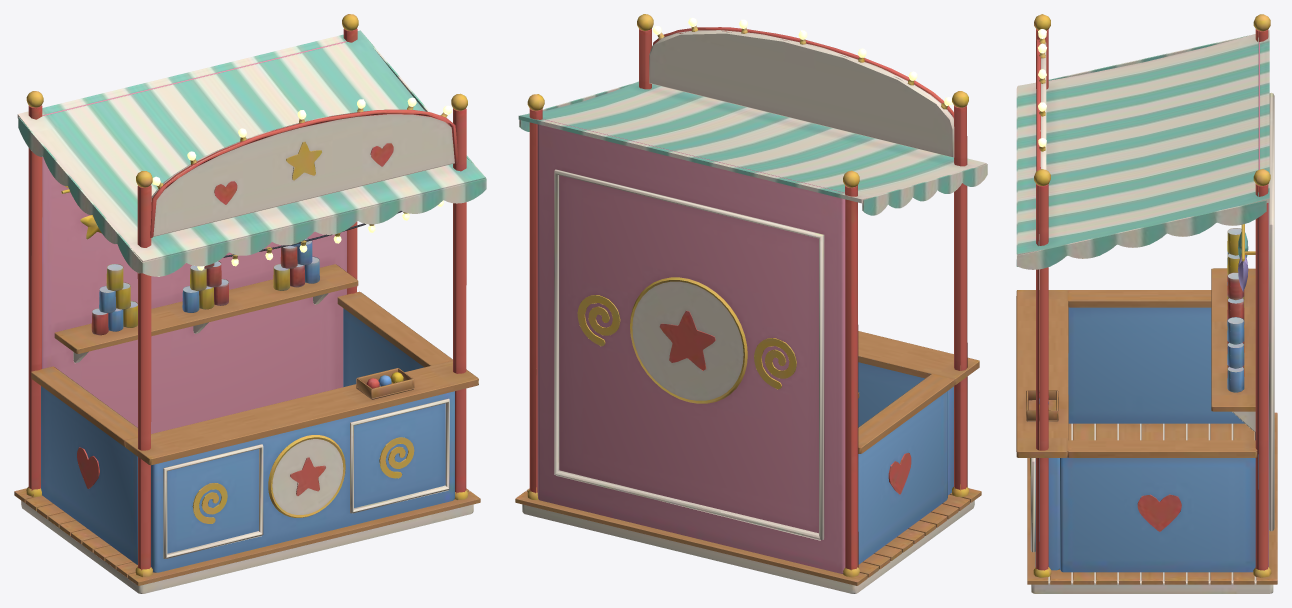
File: caseta_feria.glb
The picture shows the model from 3 angles, left to right: view 1: azimuth 30°, elevation 25°; view 2: azimuth 150°, elevation 25°; view 3: azimuth 270°, elevation 25°; orthographic projection.
Visible parts, largest first — view 1: carnival-booth_body; view 2: carnival-booth_body; view 3: carnival-booth_body.
Boxes of the visible parts, <box> form: carnival-booth_body: <box>14,14,486,593</box>; carnival-booth_body: <box>515,14,987,593</box>; carnival-booth_body: <box>1016,14,1277,593</box>.
Size of the model in its own units: 2.73 by 3.34 by 1.78.
Materials: 2 (1 with a texture image).
